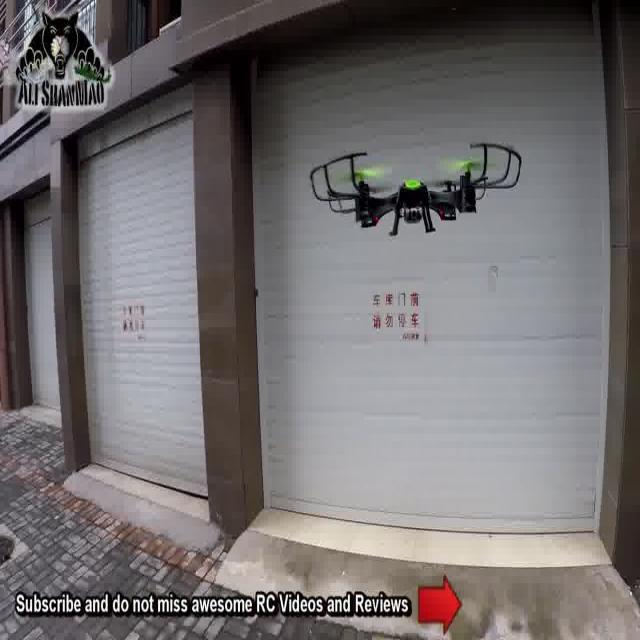drone: (315, 127, 528, 246)
